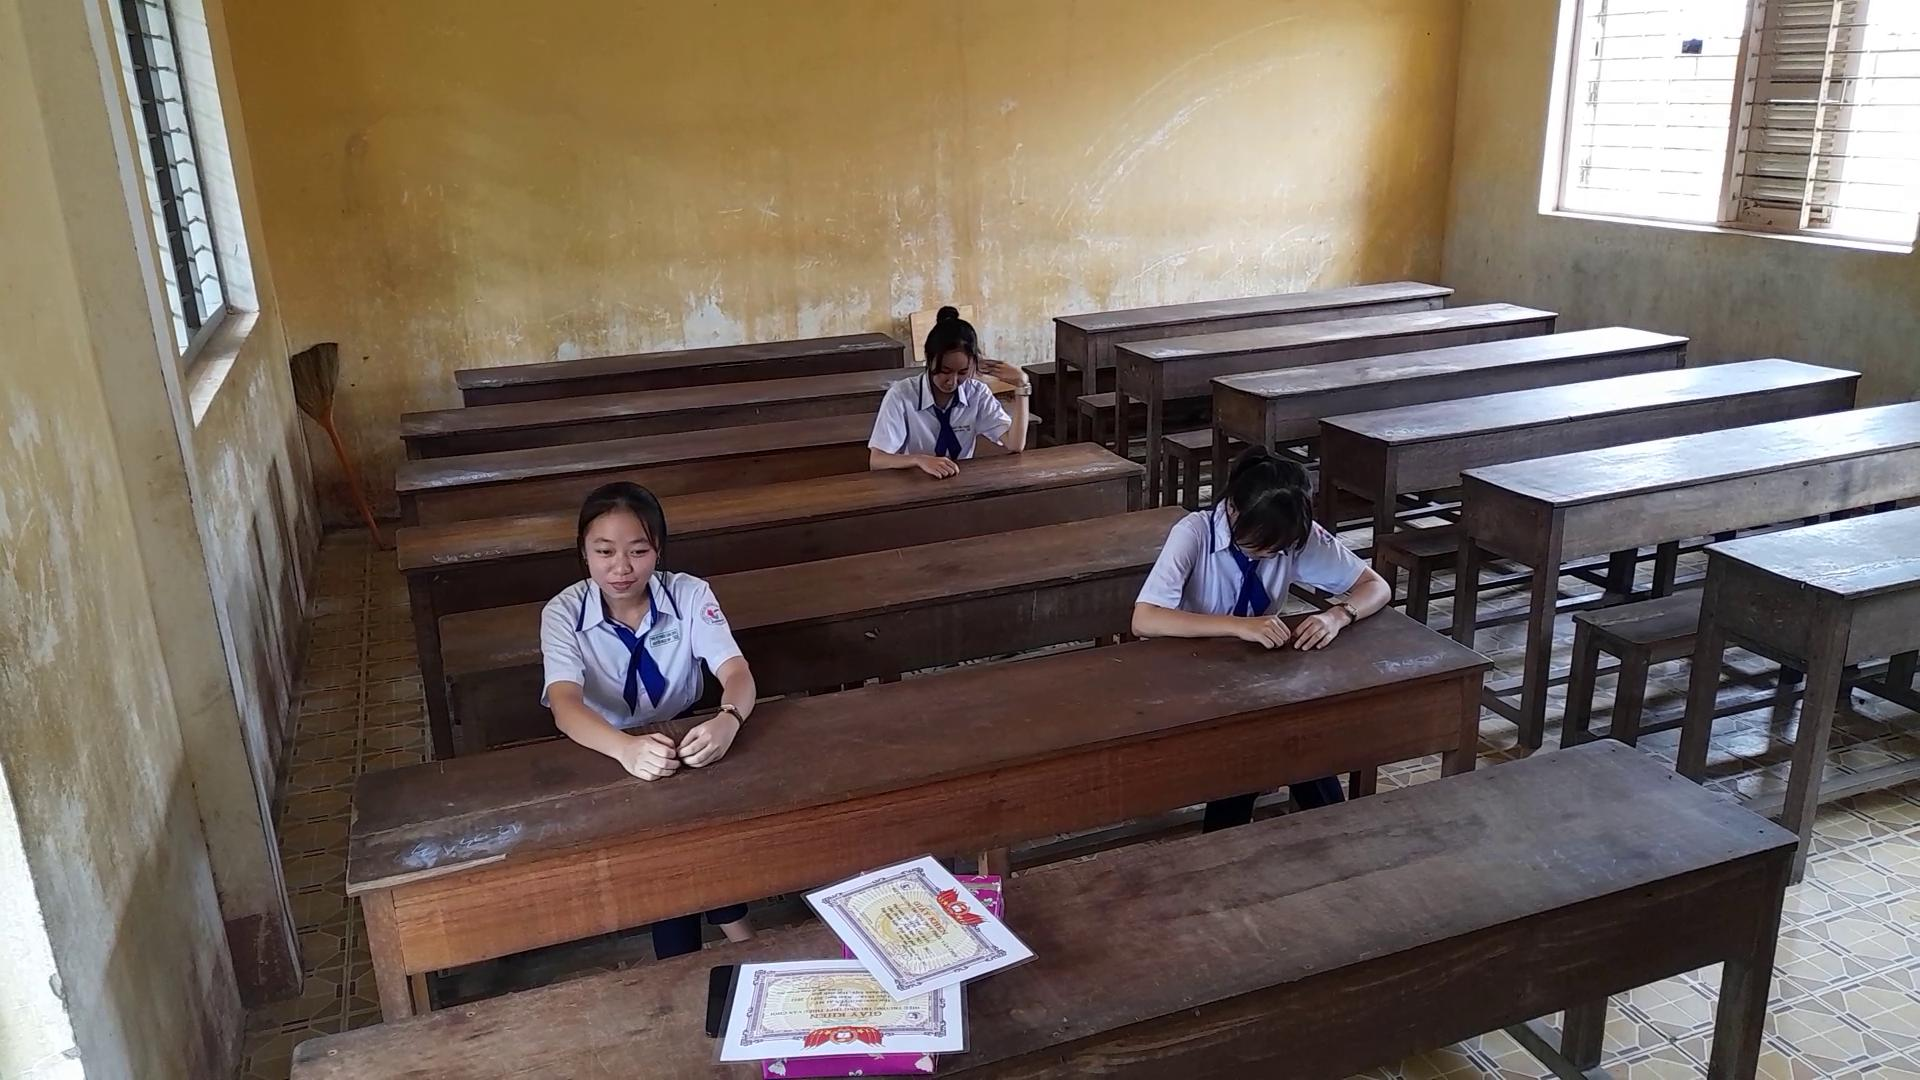Bend Over The Desk: (1203, 427, 1323, 568), (899, 290, 988, 407)
Normal: (516, 481, 764, 786)
Wave: (981, 339, 1036, 463)
